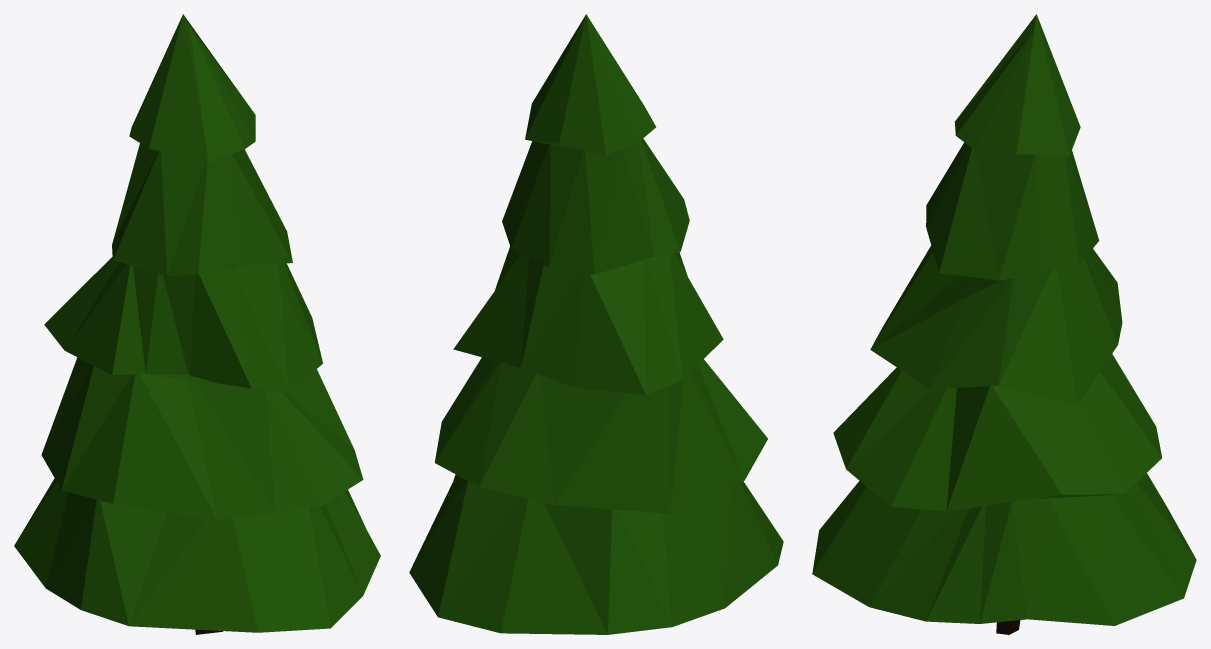
The model's file is tree2_2.FBX.
3 renders of one model, left to right at view 1: azimuth 30°, elevation 25°; view 2: azimuth 150°, elevation 25°; view 3: azimuth 270°, elevation 25°, orthographic. The views are drawn at different scales.
Parts seen in each view (by area): view 1: tree2_2; view 2: tree2_2; view 3: tree2_2.
Boxes of the visible parts, x1,y1,x2,y2 form: tree2_2: [14, 14, 380, 634]; tree2_2: [409, 14, 783, 634]; tree2_2: [812, 14, 1196, 634].
Bounding box in the file's own units: 315 × 611 × 349.
